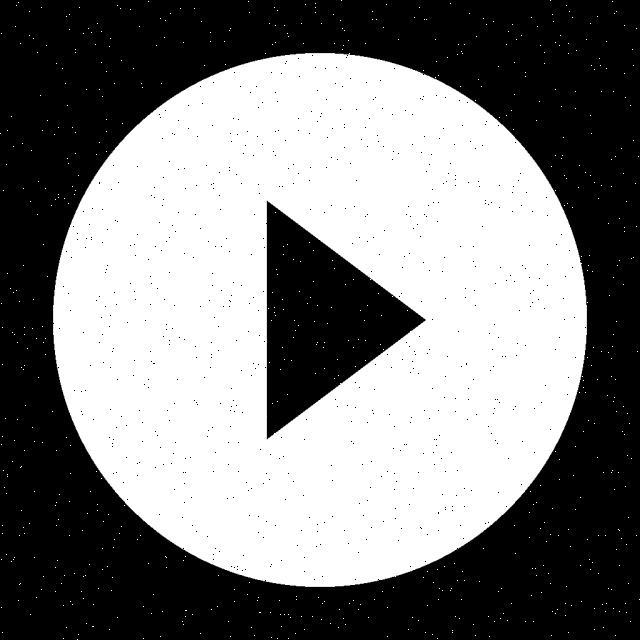Circle: (54, 54, 586, 586)
